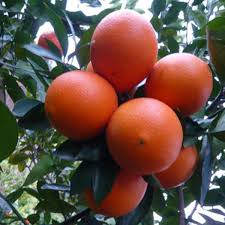orange: (106, 98, 184, 177), (37, 68, 119, 138), (89, 7, 157, 87), (148, 49, 215, 118), (82, 157, 151, 215)
